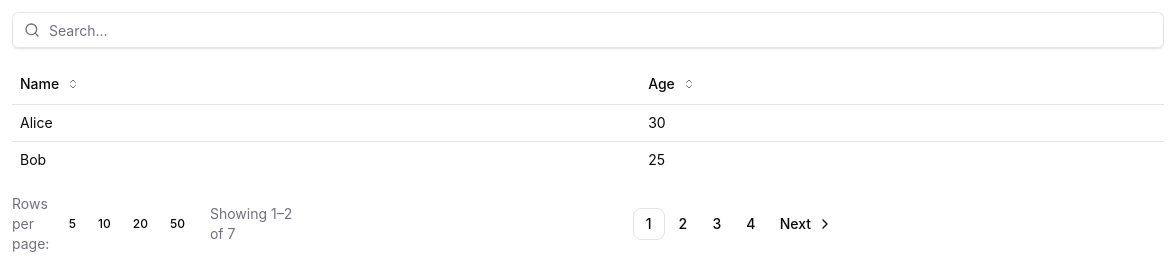
Test: DataTable › resets to page 1 on search
Expected: the text "Alice" is shown, [12, 104, 640, 141]
Search and verify it goes back to page 1
Type "Frank" into the field labelled "Search..." at point(588, 30), box [12, 12, 1164, 48]
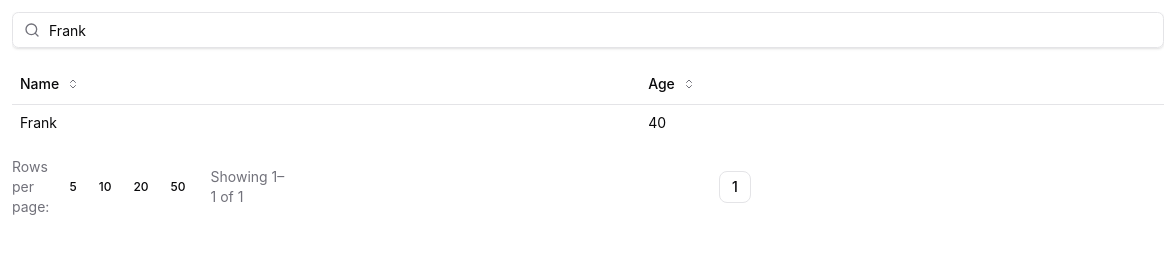
Result: the text "Frank" is shown at [12, 104, 640, 140]
